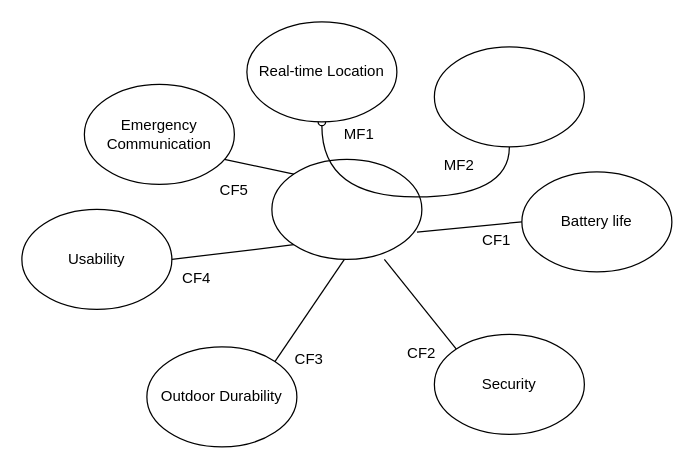
The diagram is 694 pixels wide and 469 high, and some of its shapes have lost their labels. Here are the shapes that lost their labels. From the top down, the centre of each, then its label:
At (x=508, y=96): "Private Long-Range Network".
At (x=346, y=208): "Braceloc".
